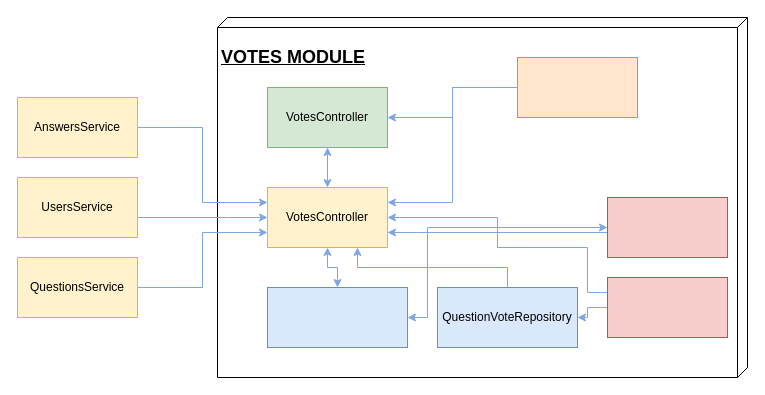
This 765x395 diagram has some shape labels left out. The shapes that lost their labels are listed below. From the top down, each one's centre as x and y in pixels, then its label:
point 577,87: Vote DTOS
point 667,227: AnswerVote Entity
point 337,317: AnswerVoteRepository
point 667,307: QuestionVote Entity
